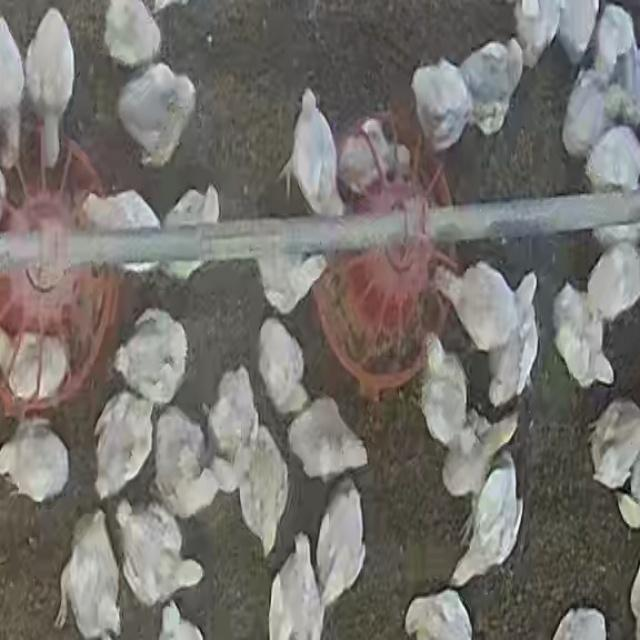chicken: (111, 497, 204, 614), (448, 454, 526, 588), (440, 260, 536, 352), (24, 9, 77, 175), (58, 508, 122, 640), (116, 60, 197, 163), (438, 409, 522, 507), (151, 406, 220, 523), (286, 85, 344, 221), (80, 186, 165, 278), (111, 308, 190, 406), (92, 388, 158, 502), (553, 276, 618, 390), (312, 478, 366, 612), (286, 396, 366, 486), (238, 422, 290, 556), (459, 39, 526, 136), (0, 416, 70, 507), (409, 57, 472, 154), (161, 184, 222, 284), (268, 533, 324, 638), (204, 367, 262, 467), (0, 319, 72, 399), (418, 340, 470, 450), (257, 318, 313, 418), (343, 121, 413, 196), (584, 240, 640, 328), (490, 309, 540, 406), (587, 396, 640, 487), (259, 247, 328, 316), (560, 70, 610, 160), (582, 122, 640, 197), (102, 1, 163, 70), (512, 1, 564, 70), (403, 589, 474, 639), (0, 21, 25, 163), (591, 2, 638, 77), (549, 605, 607, 640)
